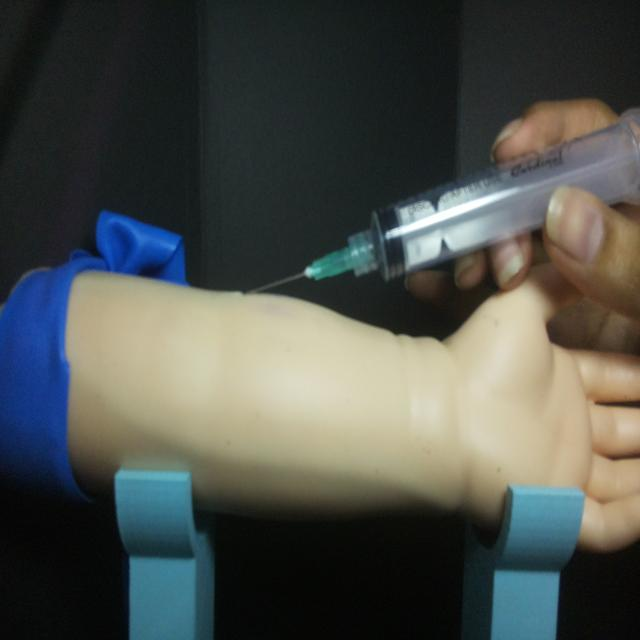18deg: (240, 105, 640, 296)
